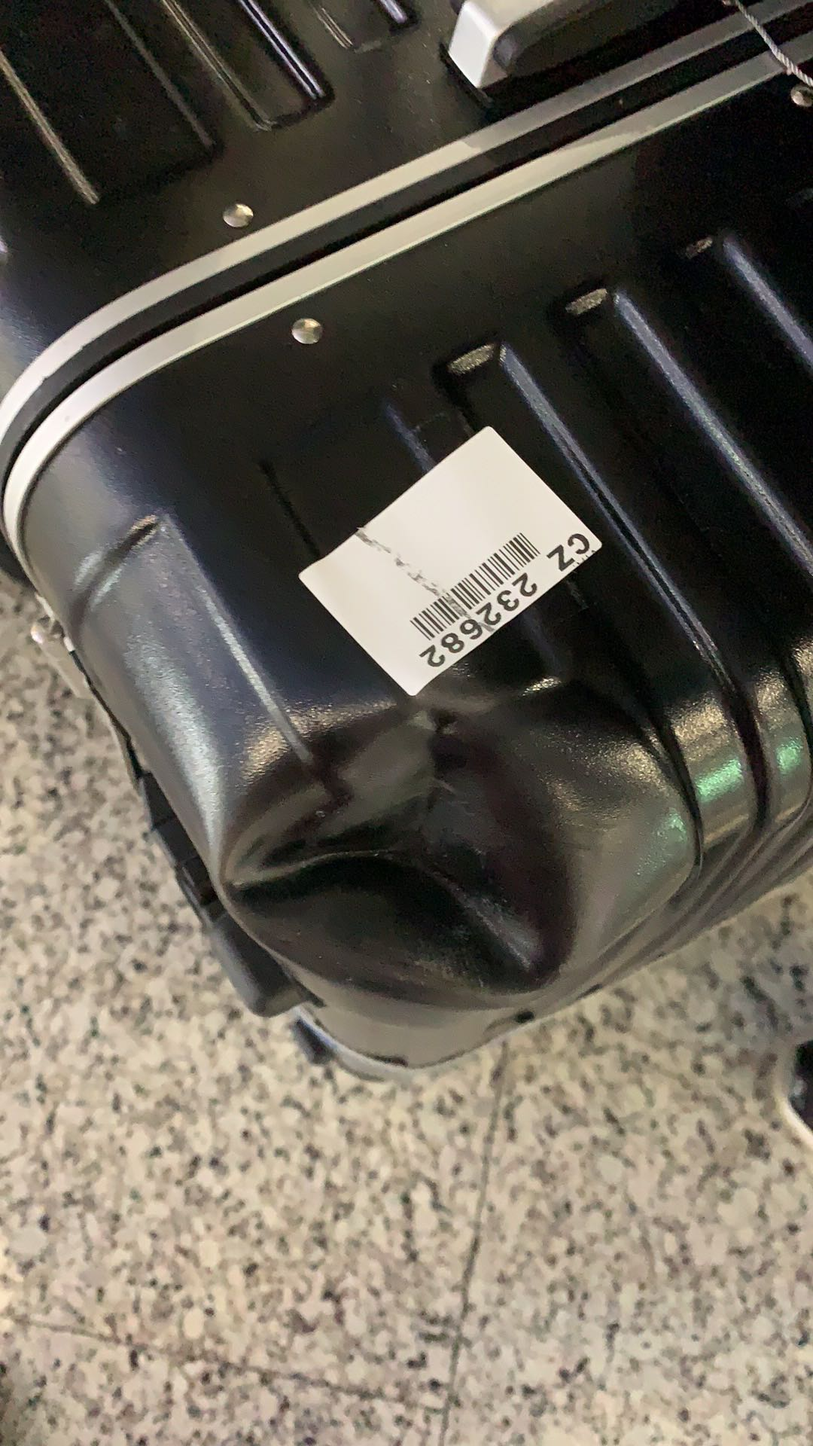rupture: (218, 701, 583, 1005)
